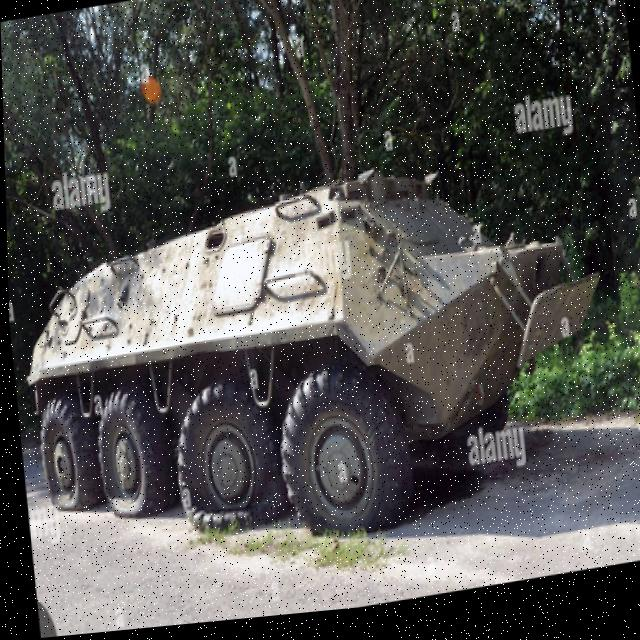MIL_APC: (4, 138, 626, 594)
